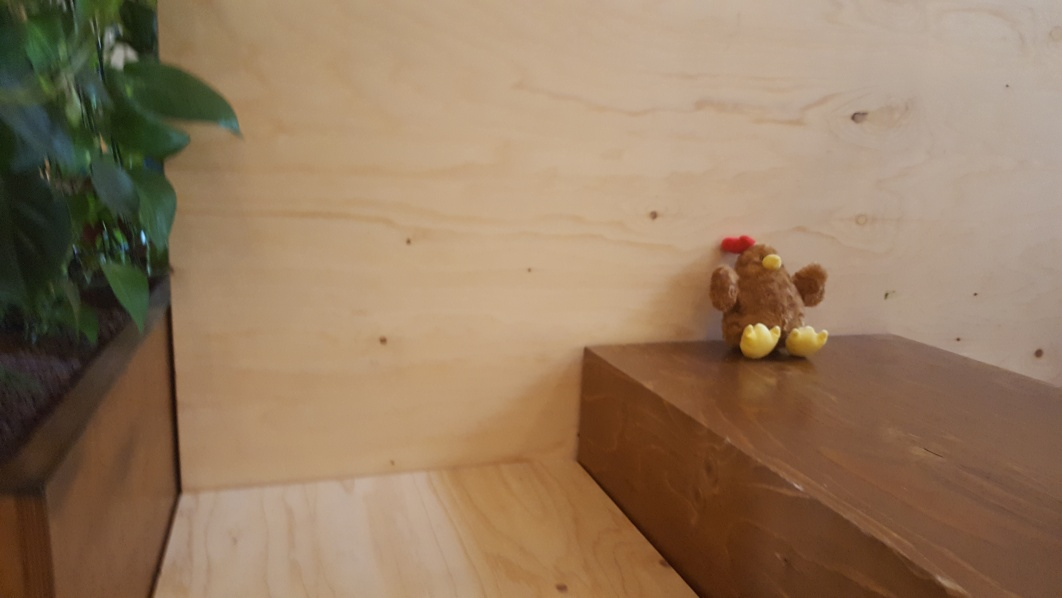chicken: (708, 225, 833, 364)
